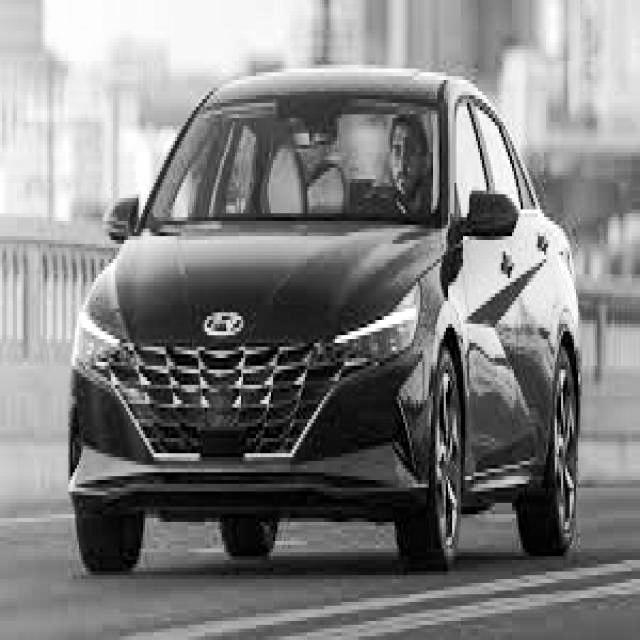Car: (56, 58, 593, 581)
